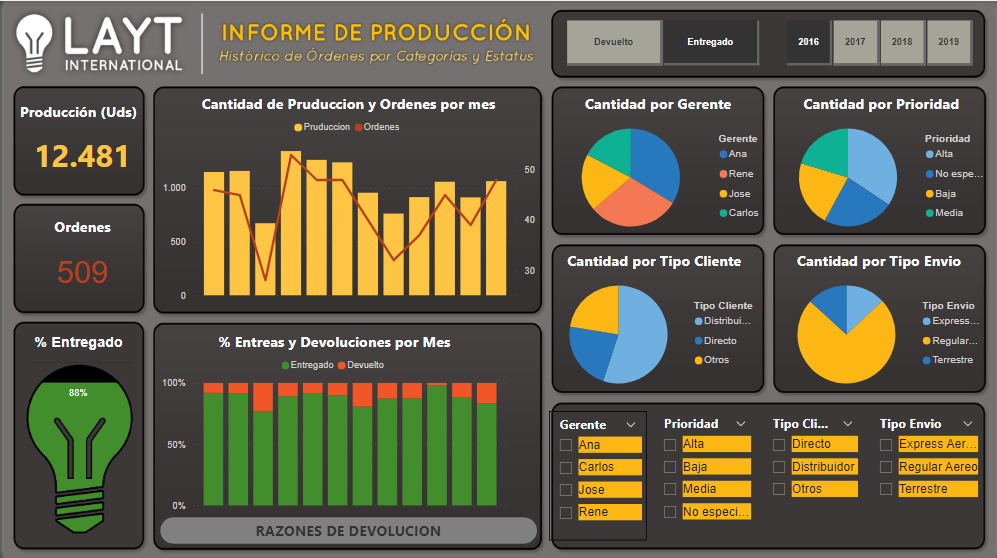

Layout of this report page (visuals, bound fields, positions):
{"tool":"powerbi","page":{"name":"% Entregas","canvas":[1280,720],"ordinal":5},"visuals":[{"type":"card","title":"Producción (Uds)","fields":{"Values":["TablaTransacciones.Cantidad"]},"box":[15.6,129,171.5,113.4],"z":0},{"type":"hundredPercentStackedColumnChart","title":"grafico_Bombilla","fields":{"Series":["TablaEstatus.Estado"],"Y":["TablaTransacciones.Cantidad"]},"box":[22,453,147.9,240.2],"z":1000},{"type":"card","title":"Ordenes","fields":{"Values":["TablaTransacciones.Cantidad"]},"box":[15.6,277.8,171.5,114.8],"z":2000},{"type":"image","title":"ImagenBombilla","box":[22,447.1,150.8,260.7],"z":3000},{"type":"lineClusteredColumnComboChart","title":"Cantidad de Pruduccion y Ordenes por mes","fields":{"Category":["TablaTransacciones.Fecha.Variación.Date Hierarchy.Year","TablaTransacciones.Fecha.Variación.Date Hierarchy.Month"],"Y":["TablaTransacciones.Cantidad"],"Y2":["TablaTransacciones.Cantidad"]},"box":[198.4,119.1,491.8,273.5],"z":4000},{"type":"slicer","fields":{"Values":["TablaTransacciones.Fecha.Variación.Date Hierarchy.Year"]},"box":[985,18.4,289.1,72.3],"z":5000},{"type":"slicer","fields":{"Values":["TablaEstatus.Estado"]},"box":[700.2,18.4,297.6,72.3],"z":6000},{"type":"hundredPercentStackedColumnChart","title":"% Entreas y Devoluciones por Mes","fields":{"Category":["TablaTransacciones.Fecha.Variación.Date Hierarchy.Year","TablaTransacciones.Fecha.Variación.Date Hierarchy.Month"],"Series":["TablaEstatus.Estado"],"Y":["TablaTransacciones.Cantidad"]},"box":[198.4,425.2,455,238.1],"z":7000},{"type":"textbox","box":[17.6,424.7,156.7,36.6],"z":8000},{"type":"pieChart","fields":{"Y":["TablaTransacciones.Cantidad"],"Category":["TablaTransacciones.Gerente"]},"box":[690.1,118.5,307.7,193.3],"z":9000},{"type":"pieChart","fields":{"Category":["TablaTransacciones.Prioridad"],"Y":["TablaTransacciones.Cantidad"]},"box":[985,118.5,295,193.3],"z":10000},{"type":"pieChart","fields":{"Y":["TablaTransacciones.Cantidad"],"Category":["TablaTransacciones.Tipo Cliente"]},"box":[690.1,321.8,297.8,193.3],"z":11000},{"type":"pieChart","fields":{"Y":["TablaTransacciones.Cantidad"],"Series":["TablaTransacciones.Tipo Envio"]},"box":[985,321.8,289.3,193.3],"z":12000},{"type":"slicer","fields":{"Values":["TablaTransacciones.Gerente"]},"box":[702.8,529.2,125.6,166.5],"z":13000},{"type":"slicer","fields":{"Values":["TablaTransacciones.Prioridad"]},"box":[838.3,529.6,131.2,166.5],"z":14000},{"type":"slicer","fields":{"Values":["TablaTransacciones.Tipo Cliente"]},"box":[979.4,529.2,128.4,166.5],"z":15000},{"type":"slicer","fields":{"Values":["TablaTransacciones.Tipo Envio"]},"box":[1117.7,529.2,145.4,166.5],"z":16000},{"type":"actionButton","box":[198.4,663.3,491.8,39.7],"z":17000}]}

Visuals, with their boxes in screenshot pixels (x1, y1, x2, y2), scaled from the page's 1280x720 canvas onto the 997x558 screenshot:
"Producción (Uds)" card: (12, 100, 146, 188)
"grafico_Bombilla" hundredPercentStackedColumnChart: (17, 351, 132, 537)
"Ordenes" card: (12, 215, 146, 304)
"ImagenBombilla" image: (17, 347, 135, 549)
"Cantidad de Pruduccion y Ordenes por mes" lineClusteredColumnComboChart: (155, 92, 538, 304)
slicer - TablaTransacciones.Fecha.Variación.Date Hierarchy.Year: (767, 14, 992, 70)
slicer - TablaEstatus.Estado: (545, 14, 777, 70)
"% Entreas y Devoluciones por Mes" hundredPercentStackedColumnChart: (155, 330, 509, 514)
textbox: (14, 329, 136, 358)
pieChart - TablaTransacciones.Cantidad x TablaTransacciones.Gerente: (538, 92, 777, 242)
pieChart - TablaTransacciones.Prioridad x TablaTransacciones.Cantidad: (767, 92, 996, 242)
pieChart - TablaTransacciones.Cantidad x TablaTransacciones.Tipo Cliente: (538, 249, 769, 399)
pieChart - TablaTransacciones.Cantidad x TablaTransacciones.Tipo Envio: (767, 249, 993, 399)
slicer - TablaTransacciones.Gerente: (547, 410, 645, 539)
slicer - TablaTransacciones.Prioridad: (653, 410, 755, 539)
slicer - TablaTransacciones.Tipo Cliente: (763, 410, 863, 539)
slicer - TablaTransacciones.Tipo Envio: (871, 410, 984, 539)
actionButton: (155, 514, 538, 545)
